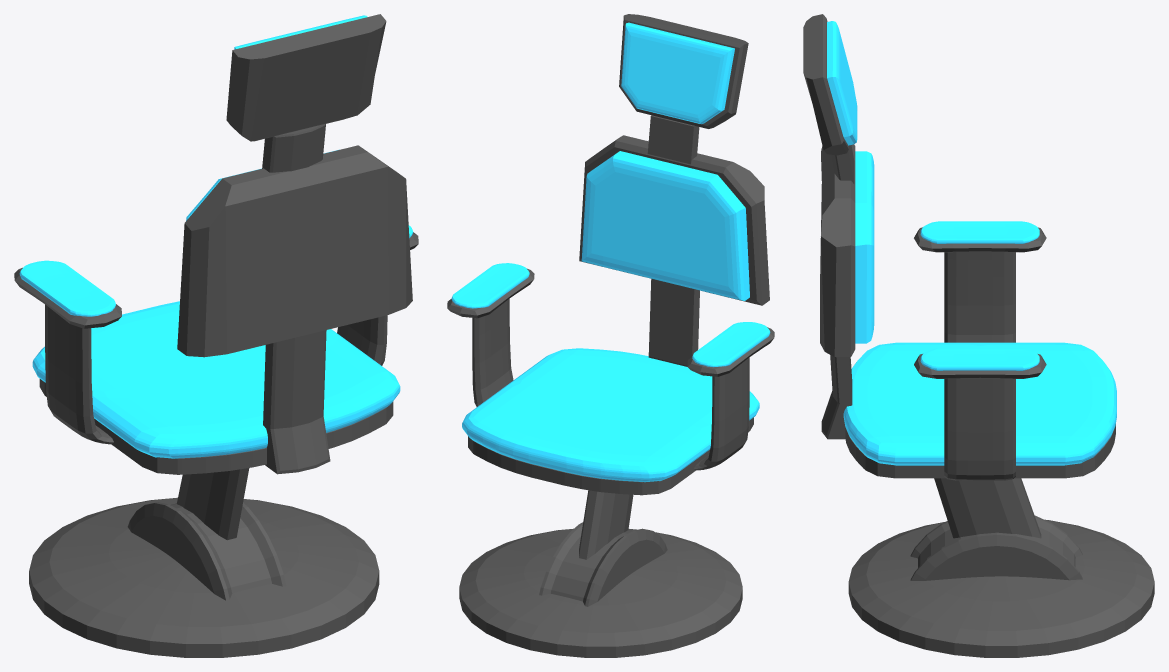
The model's file is chair4.fbx.
The picture shows the model from 3 angles, left to right: view 1: azimuth 30°, elevation 25°; view 2: azimuth 150°, elevation 25°; view 3: azimuth 270°, elevation 25°; orthographic projection. The views are drawn at different scales.
Parts seen in each view (by area): view 1: Cube.003, Cylinder.001, seat.001, Cube.007, Cylinder, Cube.002, Cube.001, seat, Cube.006, seat.002, Cube.005; view 2: seat.001, Cylinder.001, Cube.004, Cube.008, Cube.001, Cylinder, Cube.003, seat.002, Cube.002, seat, Cube.007, Cube.006 (+1 smaller); view 3: Cylinder.001, seat.001, Cube.001, Cylinder, Cube.003, seat.002, Cube.006, Cube.004, Cube.007, seat, Cube.008, Cube.002 (+1 smaller).
Boxes of the visible parts, box(x1,y1,x2,y2) form: Cube.003: box(177, 145, 412, 357); Cylinder.001: box(29, 497, 379, 657); seat.001: box(32, 301, 400, 458); Cube.007: box(226, 14, 386, 141); Cylinder: box(127, 502, 286, 600); Cube.002: box(263, 330, 330, 474); Cube.001: box(14, 232, 418, 444); seat: box(39, 379, 393, 474); Cube.006: box(176, 468, 249, 540); seat.002: box(19, 225, 413, 316); Cube.005: box(262, 124, 325, 172); seat.001: box(462, 348, 759, 482); Cylinder.001: box(459, 528, 742, 657); Cube.004: box(581, 151, 749, 300); Cube.008: box(621, 22, 734, 124); Cube.001: box(447, 268, 774, 470); Cylinder: box(539, 522, 667, 606); Cube.003: box(579, 135, 769, 305); seat.002: box(451, 263, 770, 367); Cube.002: box(648, 279, 699, 366); seat: box(468, 417, 753, 495); Cube.007: box(619, 14, 748, 128); Cube.006: box(579, 490, 633, 559); Cylinder.001: box(848, 519, 1154, 657); seat.001: box(843, 342, 1116, 465); Cube.001: box(914, 227, 1046, 480); Cylinder: box(910, 515, 1082, 580); Cube.003: box(820, 144, 855, 356); seat.002: box(920, 221, 1039, 370); Cube.006: box(934, 478, 1041, 538); Cube.004: box(855, 151, 874, 343); Cube.007: box(803, 14, 848, 155); seat: box(845, 424, 1115, 478); Cube.008: box(827, 21, 857, 145); Cube.002: box(821, 355, 852, 439).
Size of the model in its own units: 305 by 523 by 304.
